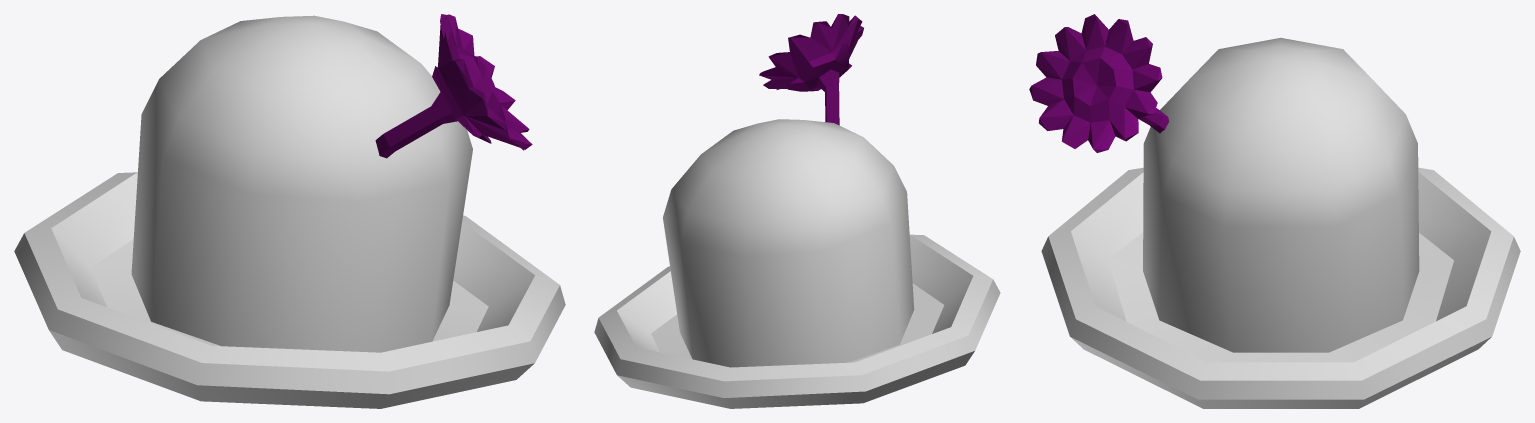
File: FlowerHat.FBX
The picture shows the model from 3 angles, left to right: view 1: azimuth 30°, elevation 25°; view 2: azimuth 150°, elevation 25°; view 3: azimuth 270°, elevation 25°; orthographic projection. The views are drawn at different scales.
Visible parts, largest first — view 1: clown hat, SM_Prop_Sunflower_01; view 2: clown hat, SM_Prop_Sunflower_01; view 3: clown hat, SM_Prop_Sunflower_01.
Part boxes in pixels (bbox=[...]): clown hat: bbox=[14, 15, 565, 408]; SM_Prop_Sunflower_01: bbox=[375, 14, 532, 158]; clown hat: bbox=[594, 119, 1000, 408]; SM_Prop_Sunflower_01: bbox=[759, 14, 863, 125]; clown hat: bbox=[1041, 37, 1520, 408]; SM_Prop_Sunflower_01: bbox=[1029, 14, 1169, 152].
Size of the model in its own units: 232 by 246 by 180.
